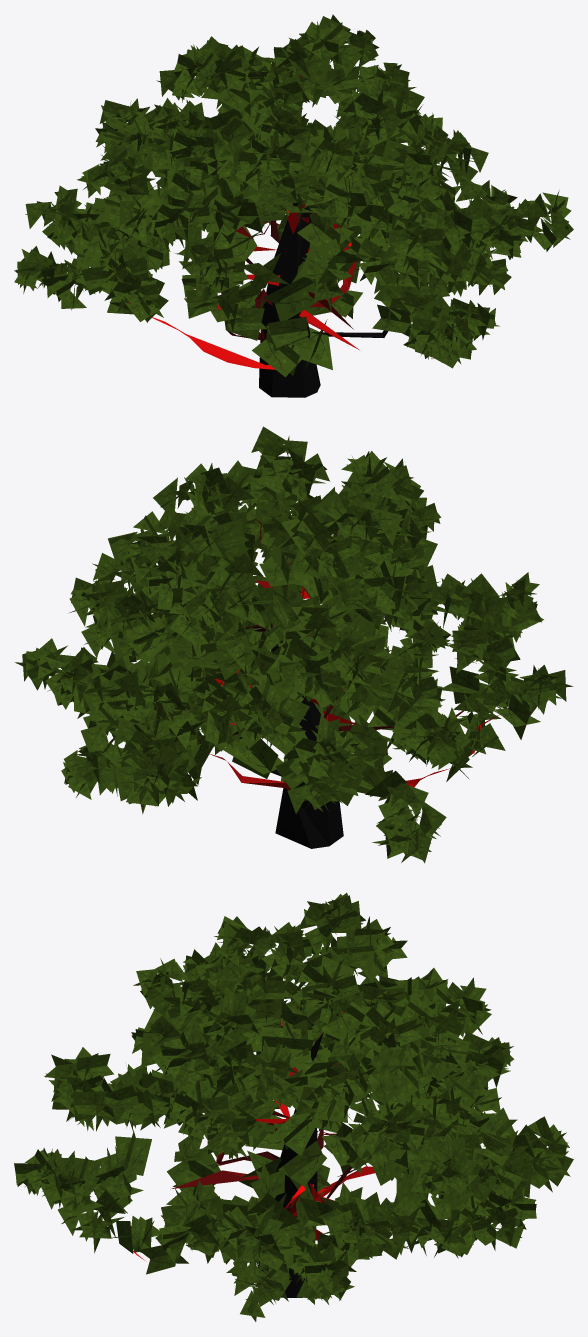
Rendered from oak8 lod2.FBX.
3 renders of one model, top to bottom at view 1: azimuth 30°, elevation 25°; view 2: azimuth 150°, elevation 25°; view 3: azimuth 270°, elevation 25°, orthographic. The views are drawn at different scales.
Parts seen in each view (by area): view 1: oak8_LOD2; view 2: oak8_LOD2; view 3: oak8_LOD2.
Boxes of the visible parts, box(x1,y1,x2,y2) form: oak8_LOD2: box(14, 14, 573, 397); oak8_LOD2: box(15, 426, 573, 863); oak8_LOD2: box(14, 892, 573, 1321).
Bounding box in the file's own units: 202622 × 151846 × 205503.
